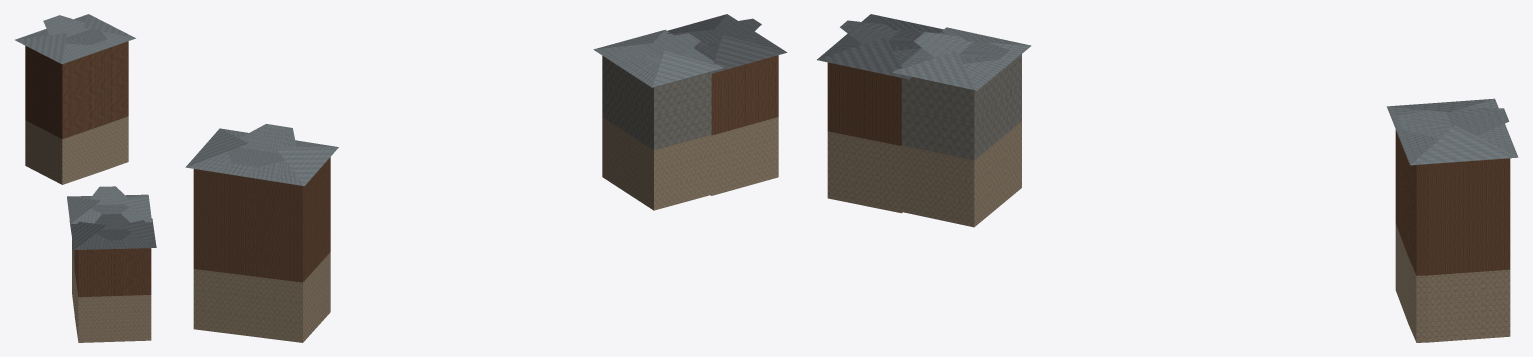
Rendered from bld_c5_9_480.gltf.
The picture shows the model from 3 angles, left to right: view 1: azimuth 30°, elevation 25°; view 2: azimuth 150°, elevation 25°; view 3: azimuth 270°, elevation 25°; orthographic projection. The views are drawn at different scales.
Visible parts, largest first — view 1: bld_c5_9_480; view 2: bld_c5_9_480; view 3: bld_c5_9_480.
Part boxes in pixels (box(x1,y1,x2,y2)): bld_c5_9_480: box(15, 14, 156, 342); bld_c5_9_480: box(185, 14, 787, 342); bld_c5_9_480: box(817, 14, 1518, 342).
Size of the model in its own units: 28.76 by 14.8 by 48.36.
5 materials, 5 textured.
